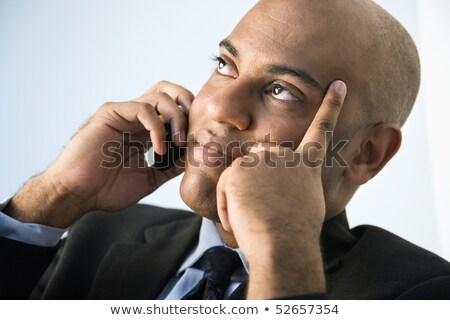phone: (141, 99, 195, 181)
talk: (61, 27, 363, 236)
